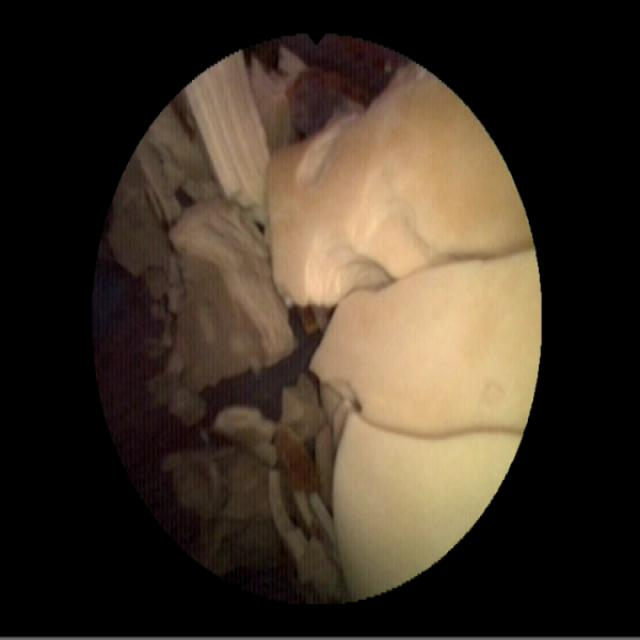stone: (109, 52, 536, 595)
